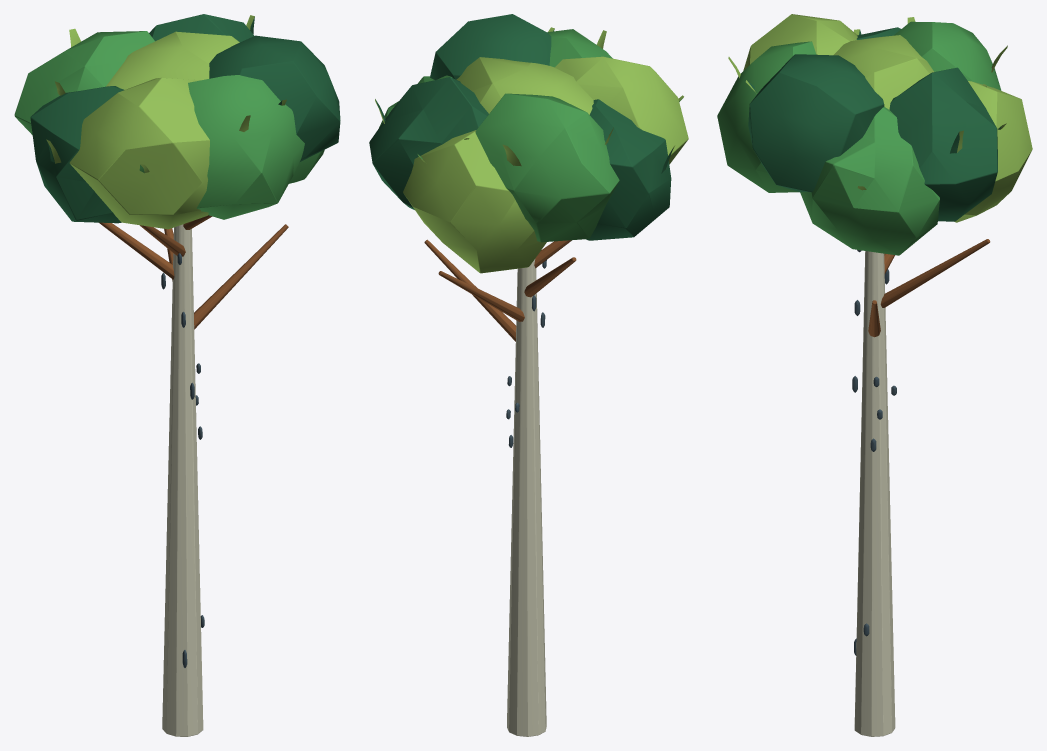
Rendered from tree_birch_lod1.glb.
3 renders of one model, left to right at view 1: azimuth 30°, elevation 25°; view 2: azimuth 150°, elevation 25°; view 3: azimuth 270°, elevation 25°, orthographic. The views are drawn at different scales.
Visible parts, largest first — view 1: Pale birch trunk.001; view 2: Pale birch trunk.001; view 3: Pale birch trunk.001.
Boxes of the visible parts, x1=… form: Pale birch trunk.001: x1=14, y1=14, x2=340, y2=736; Pale birch trunk.001: x1=369, y1=14, x2=688, y2=736; Pale birch trunk.001: x1=717, y1=14, x2=1032, y2=736.
Bounding box in the file's own units: 3.17 × 7.29 × 3.01.
